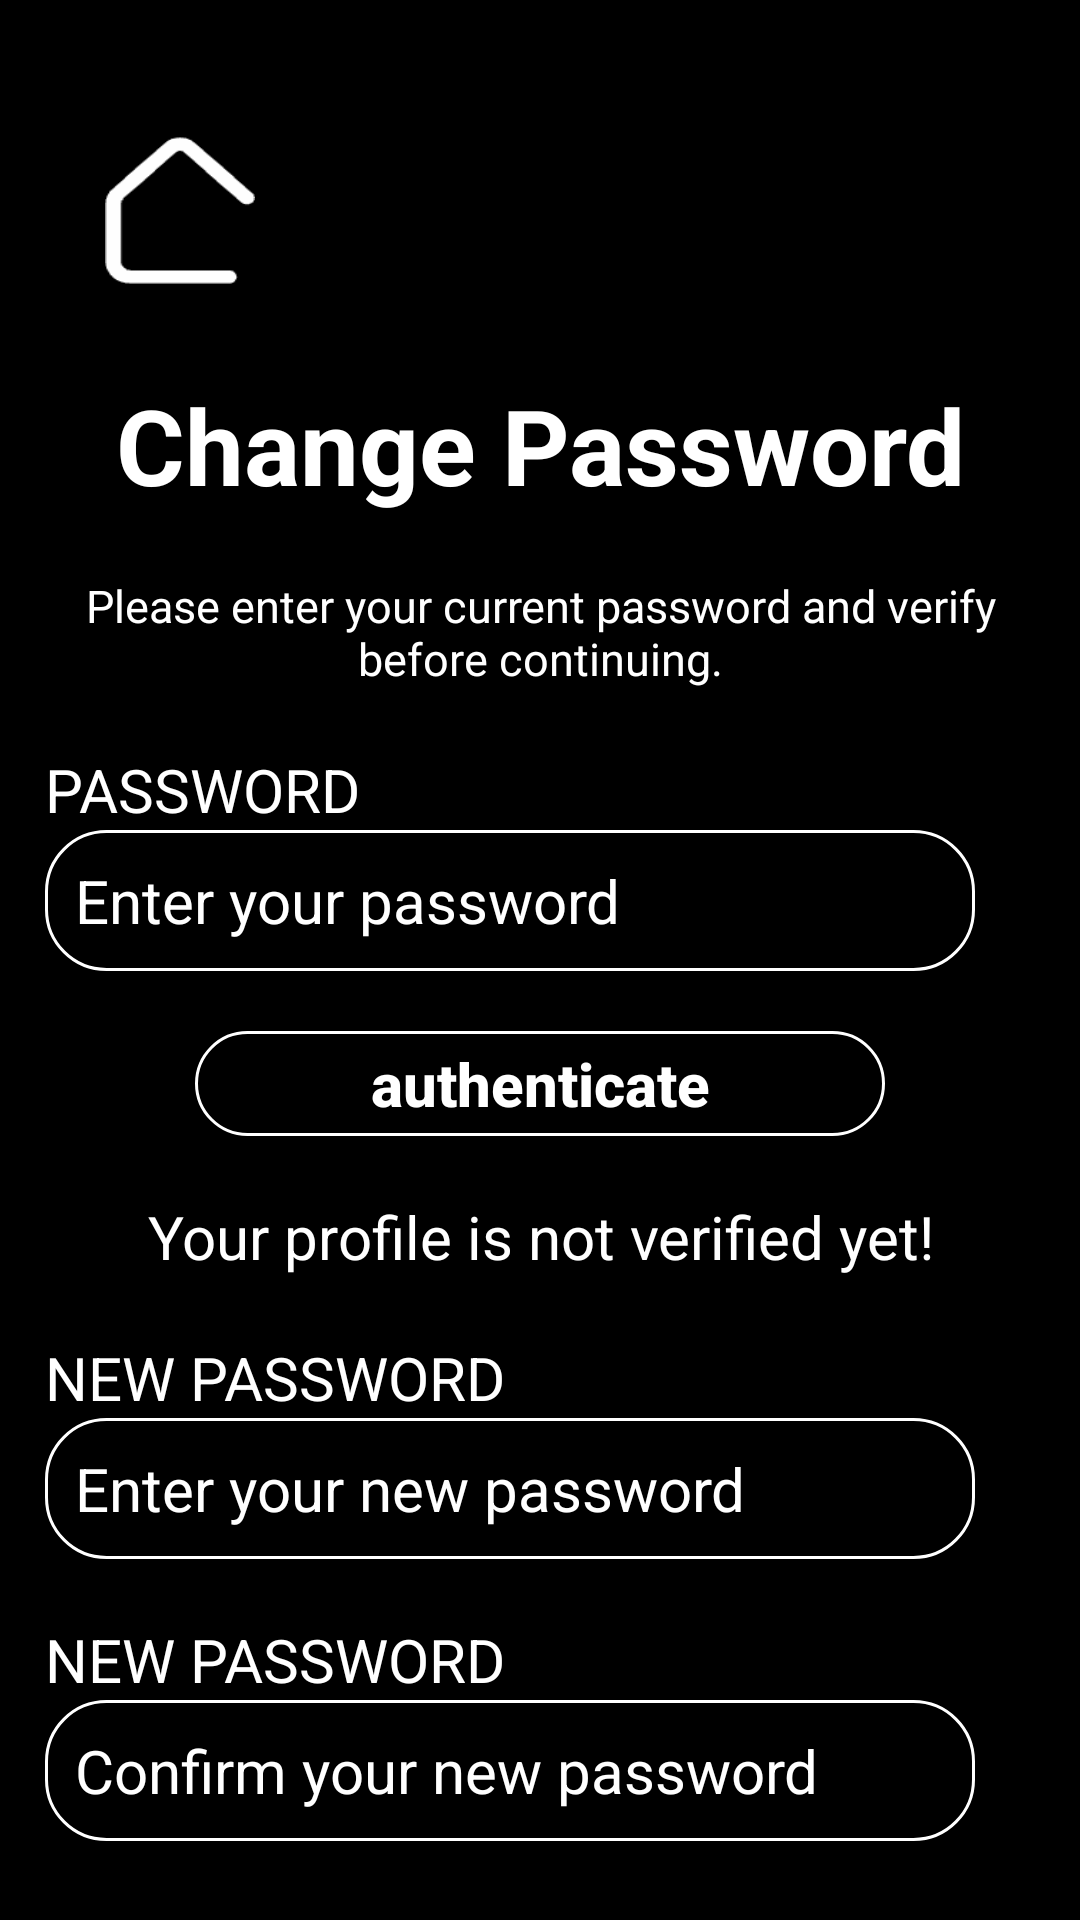

Named icons in this screenshot (1080w x 1920h) and their centers, [x,y]:
home: [180,210]
